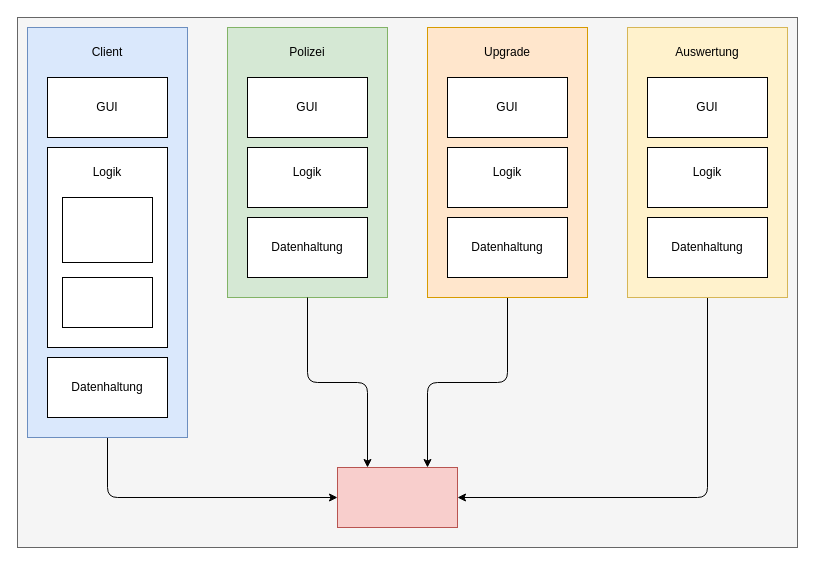
The diagram is 815 pixels wide and 565 high, and some of its shapes have lost their labels. The shapes that lost their labels are listed below. From the top down, each one's centre as x and y in pixels, then its label:
At point (107, 229): "Sektoren - legal - illegal".
At point (107, 302): "Events".
At point (397, 497): "Server".
